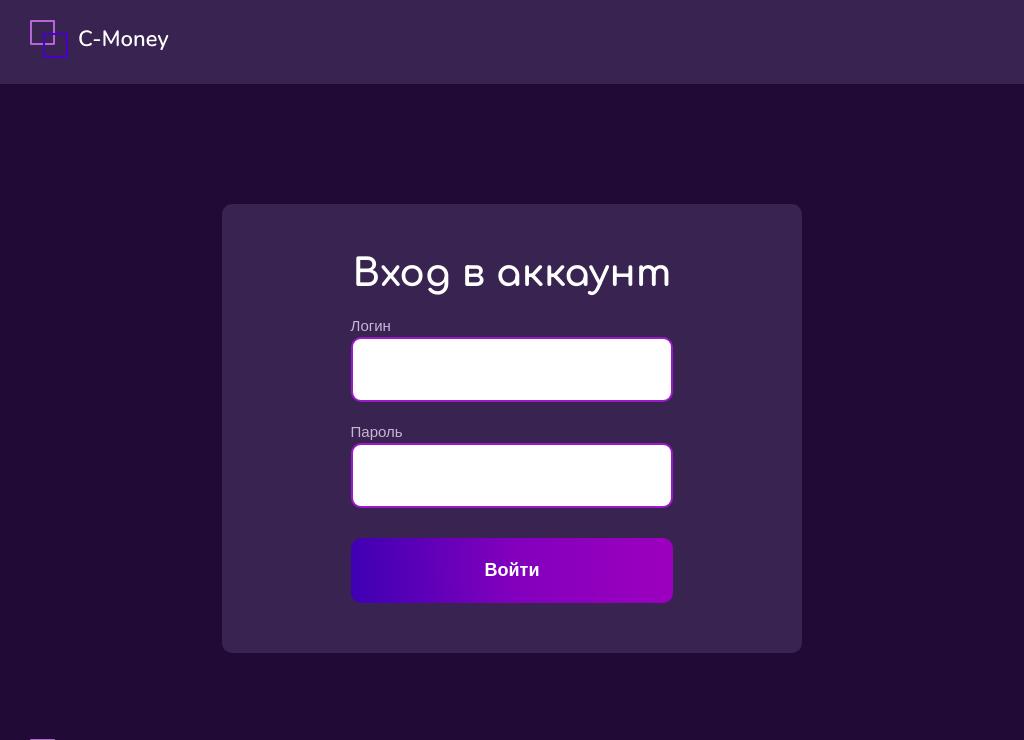
Scenario: C-Money › Авторизация, не валидный логин - цифра
Type "developer1" into the field named "login". click: (513, 370)
box: [351,337,674,402]
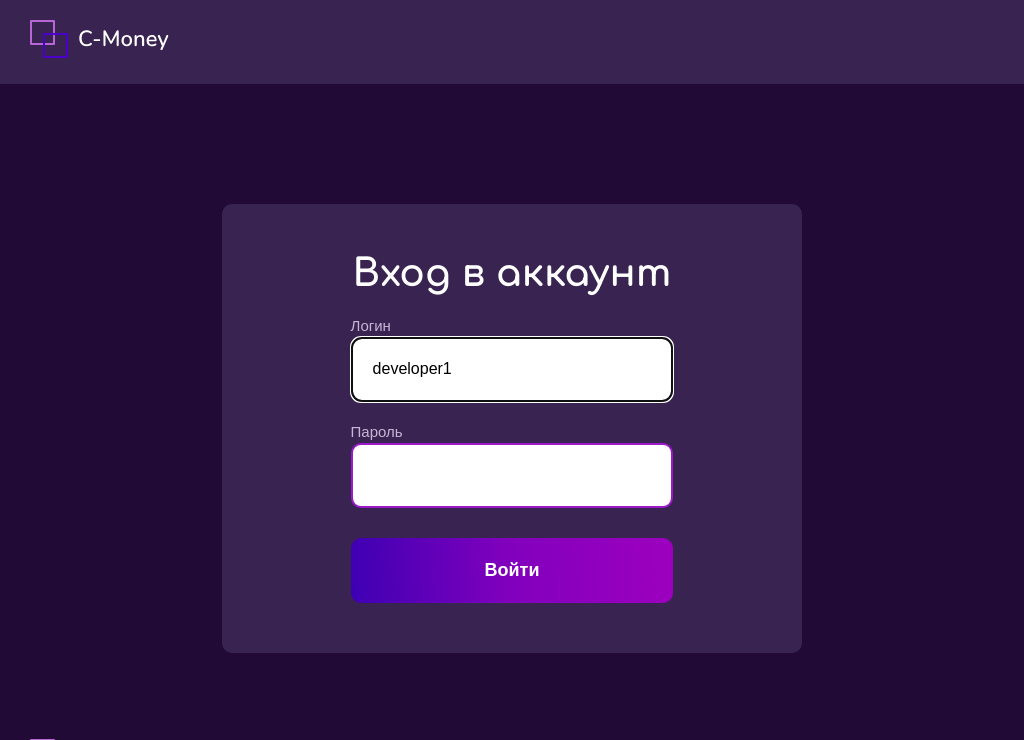
Type "methed" into the password field named "password". click: (513, 476)
box: [351,443,674,508]
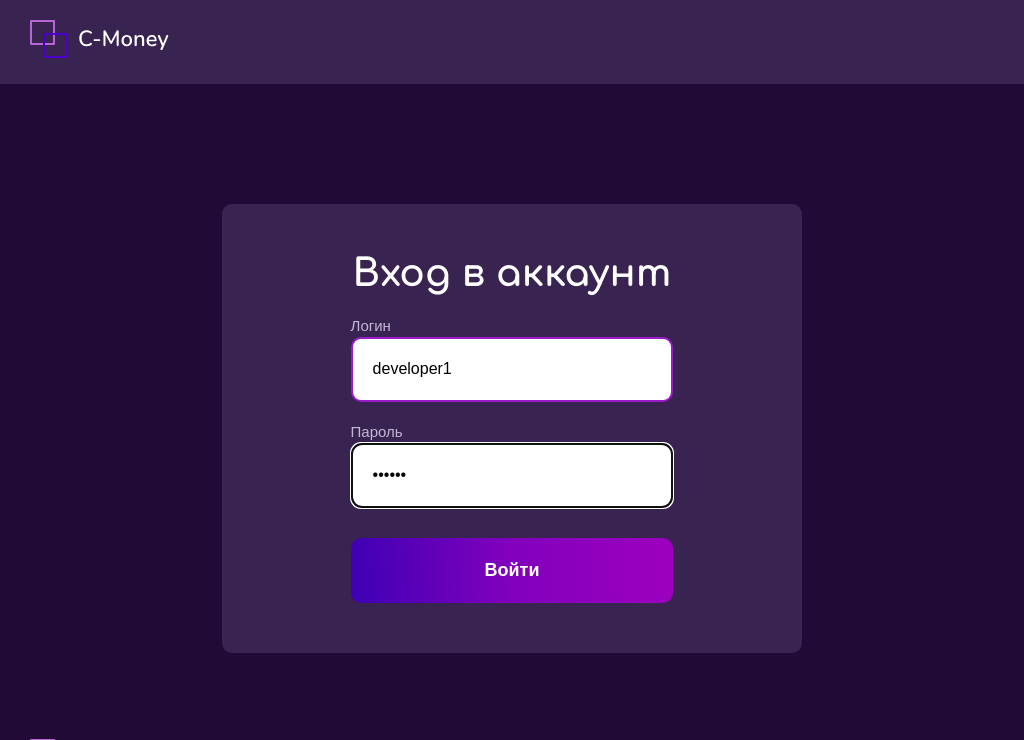
Click the button "Войти". click: (513, 571)
box: [351,538,674,603]
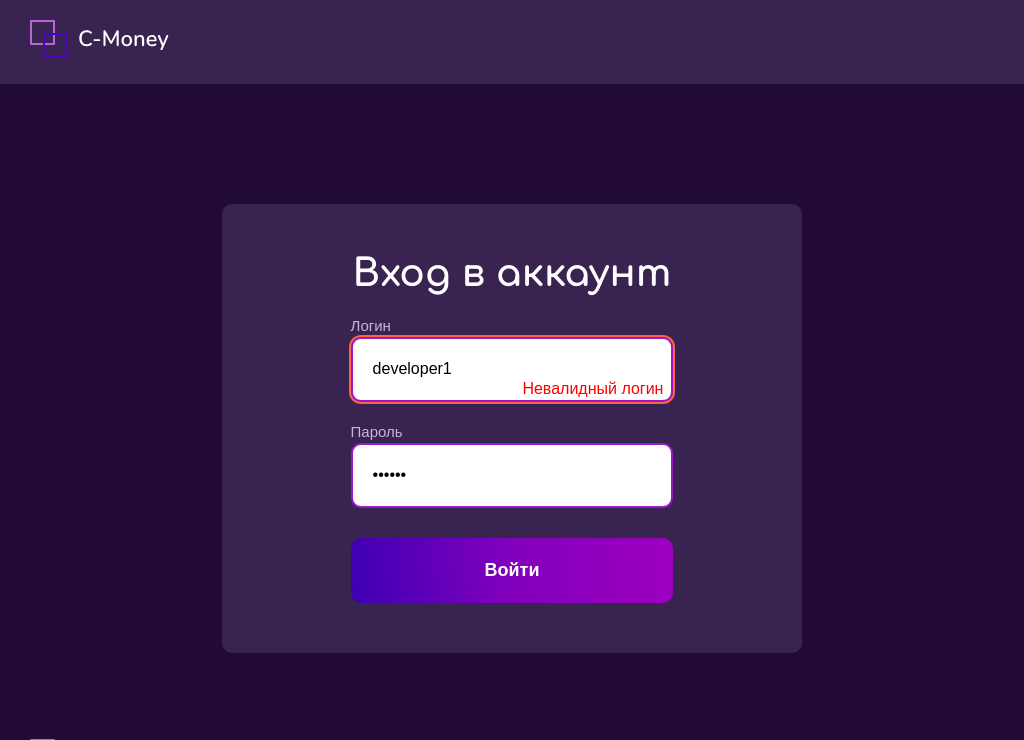
Now the text "Невалидный логин" is shown, box [522,379,663,400]
